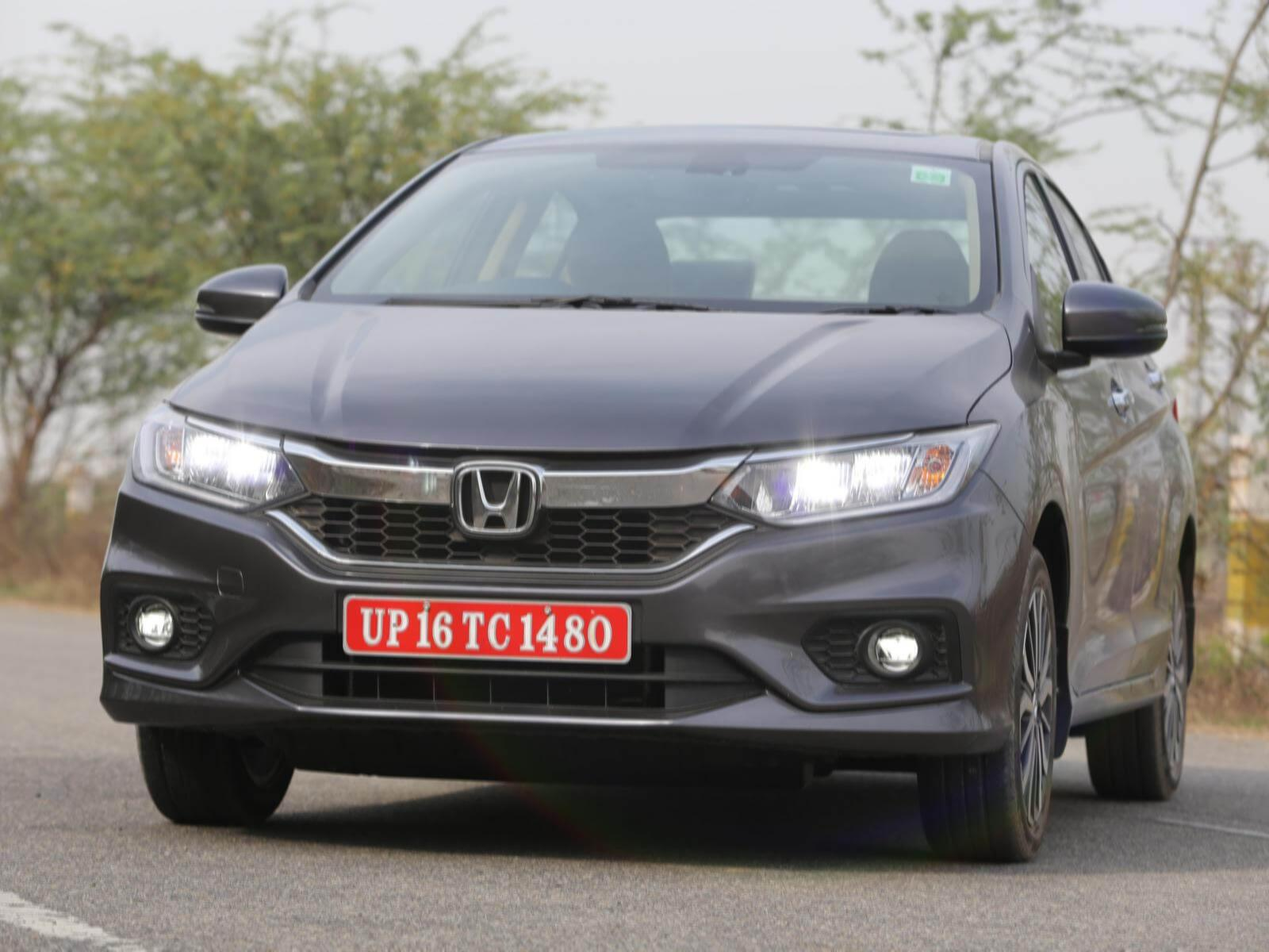Car hood: (157, 303, 1009, 457)
Front bumper: (87, 446, 1033, 775)
Headlight - -L-: (701, 416, 1009, 524)
Headlight - -R-: (130, 394, 313, 515)
Passenger-s door - -F-L-: (996, 149, 1183, 743)
Side bumper - -L-: (1045, 609, 1193, 765)
Side mirror - -L-: (1038, 281, 1181, 384)
Side mirror - -R-: (186, 259, 292, 336)
